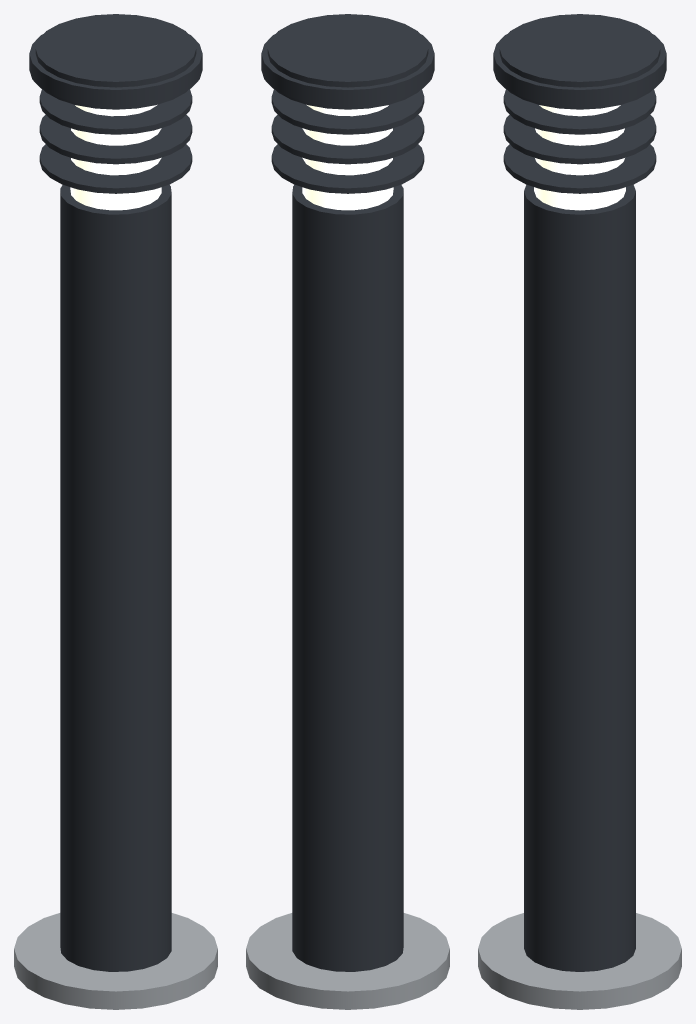
The model's file is bollard_lamp.glb.
The picture shows the model from 3 angles, left to right: view 1: azimuth 30°, elevation 25°; view 2: azimuth 150°, elevation 25°; view 3: azimuth 270°, elevation 25°; orthographic projection.
Parts seen in each view (by area): view 1: Body, Glow; view 2: Body, Glow; view 3: Body, Glow.
Part boxes in pixels (box(x1,y1,x2,y2)): Body: box(14, 14, 217, 1009); Glow: box(70, 104, 161, 210); Body: box(246, 14, 449, 1009); Glow: box(302, 104, 393, 210); Body: box(478, 14, 681, 1009); Glow: box(534, 105, 625, 210).
Size of the model in its own units: 0.2 by 0.995 by 0.2.
